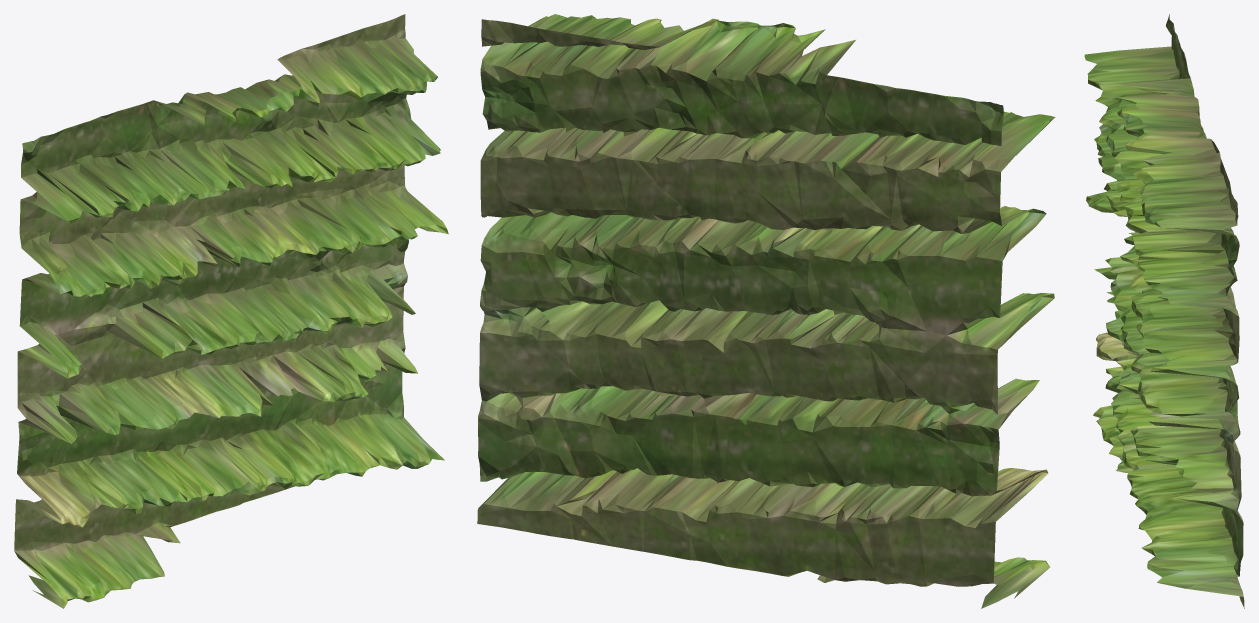
The model's file is map_50_0.obj.
3 views of the same model, side by side, from view 1: azimuth 30°, elevation 25°; view 2: azimuth 150°, elevation 25°; view 3: azimuth 270°, elevation 25° (orthographic). The views are drawn at different scales.
Visible parts, largest first — view 1: grp1; view 2: grp1; view 3: grp1.
Part boxes in pixels (left/top/right/bottom): grp1: left=14, top=14, right=448, bottom=608; grp1: left=477, top=14, right=1055, bottom=608; grp1: left=1084, top=14, right=1244, bottom=608.
Bounding box in the file's own units: 10 × 10 × 3.57.
1 material, 1 textured.
